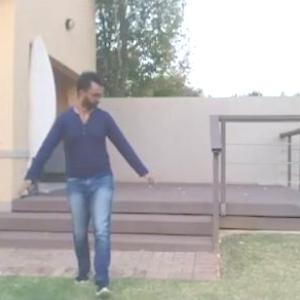land: (1, 52, 185, 299)
